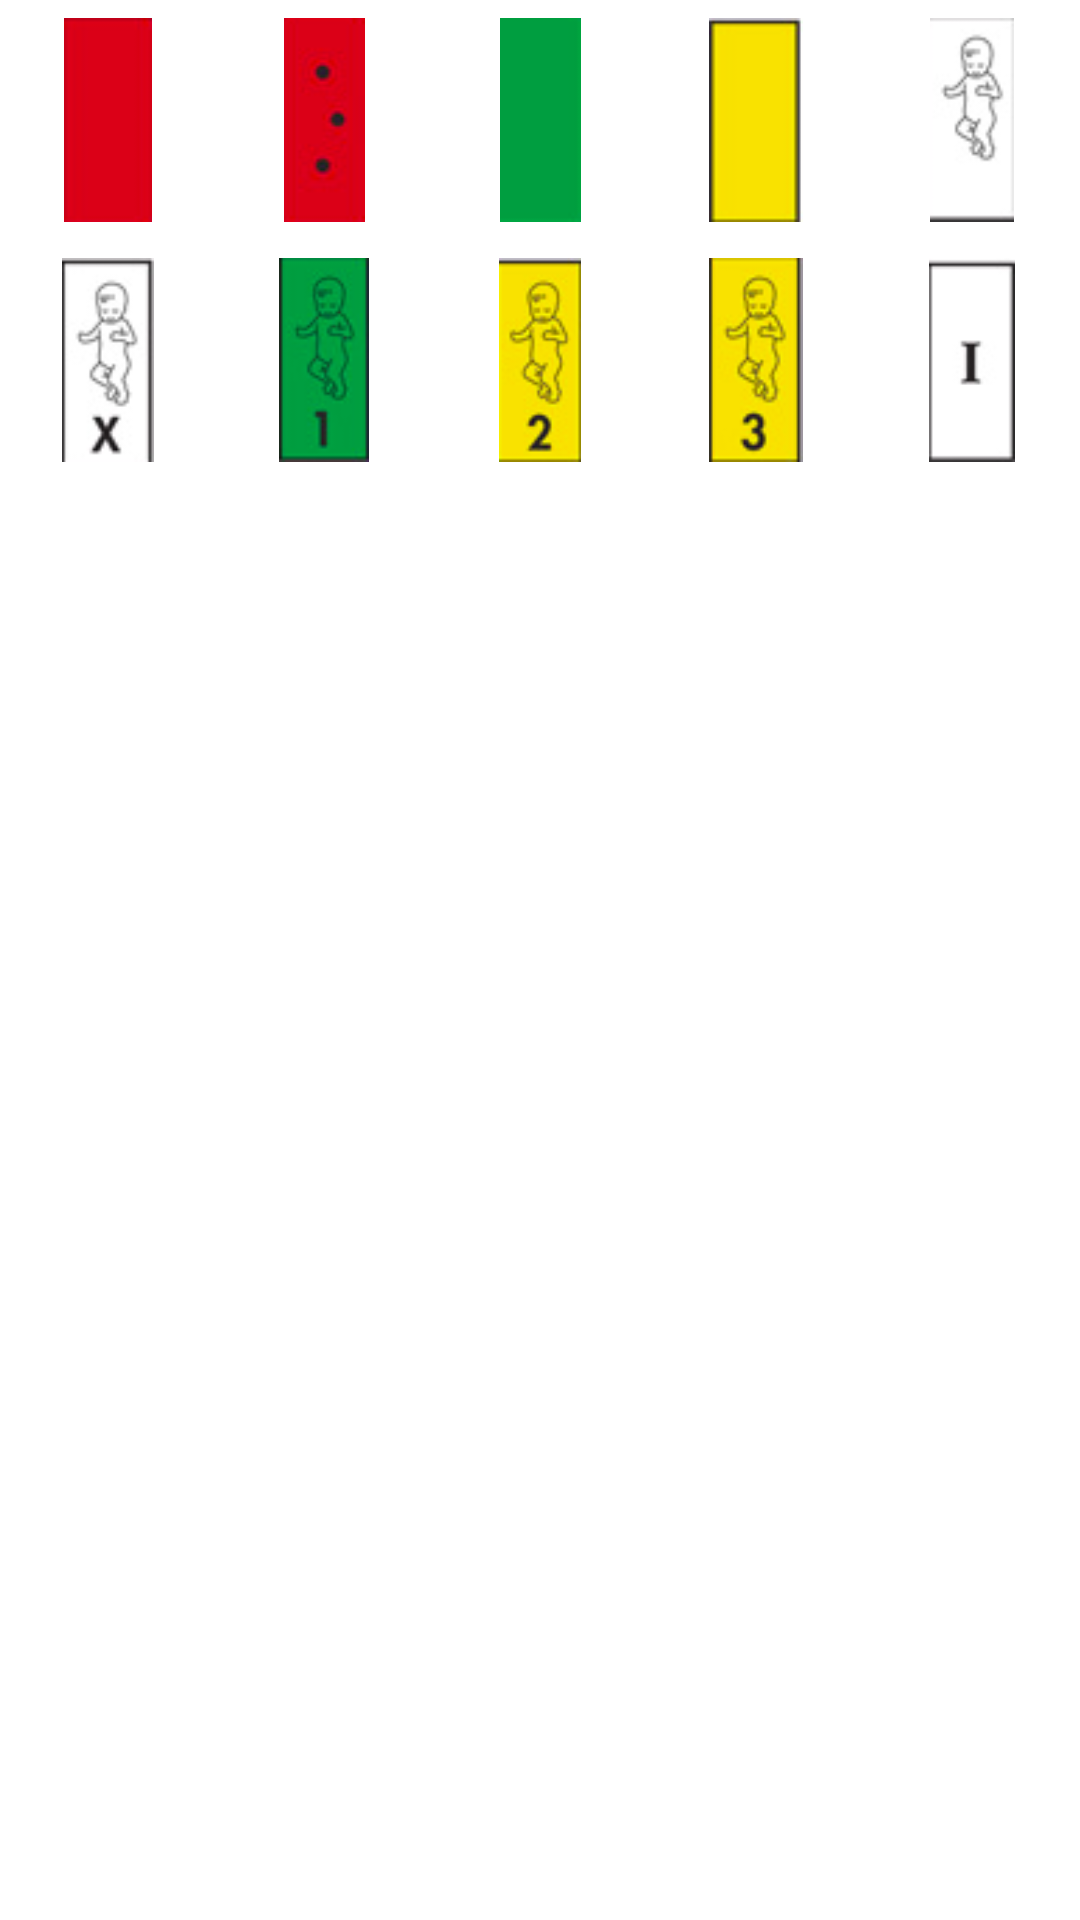

Named icons in this screenshot (1080w x 1920h) and their centers, (x=x, y=y):
peak: (x=108, y=360)
peak after: (x=324, y=360), (x=540, y=360), (x=756, y=360)
spotting: (x=324, y=120)
